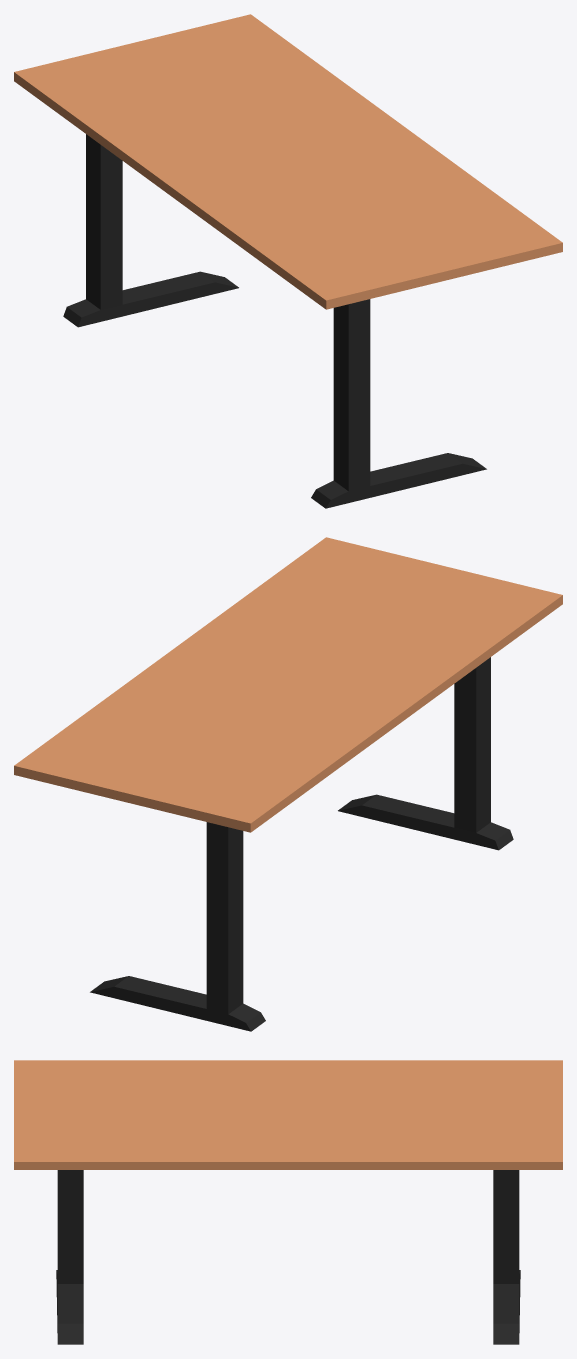
Rendered from Desk_New.fbx.
The picture shows the model from 3 angles, top to bottom: view 1: azimuth 30°, elevation 25°; view 2: azimuth 150°, elevation 25°; view 3: azimuth 270°, elevation 25°; orthographic projection. The views are drawn at different scales.
Parts seen in each view (by area): view 1: Top, Left Leg, Right Leg, Right Foot, Left Foot; view 2: Top, Right Leg, Left Leg, Left Foot, Right Foot; view 3: Top, Right Leg, Left Leg, Right Foot, Left Foot.
Boxes of the visible parts, left/top/right/bottom form: Top: left=14, top=14, right=562, bottom=309; Left Leg: left=333, top=299, right=370, bottom=491; Right Leg: left=86, top=134, right=122, bottom=309; Right Foot: left=63, top=271, right=238, bottom=327; Left Foot: left=311, top=453, right=486, bottom=508; Top: left=14, top=537, right=562, bottom=832; Right Leg: left=206, top=822, right=243, bottom=1014; Left Leg: left=454, top=657, right=490, bottom=832; Left Foot: left=338, top=794, right=513, bottom=850; Right Foot: left=90, top=976, right=265, bottom=1031; Top: left=14, top=1060, right=562, bottom=1169; Right Leg: left=493, top=1170, right=519, bottom=1283; Left Leg: left=57, top=1170, right=83, bottom=1283; Right Foot: left=493, top=1270, right=520, bottom=1344; Left Foot: left=56, top=1270, right=83, bottom=1344.
Size of the model in its own units: 87.76 by 82.28 by 200.
